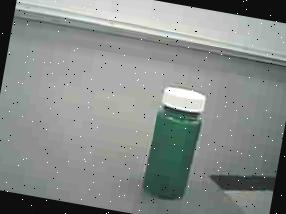Bottle C: (130, 72, 216, 209)
